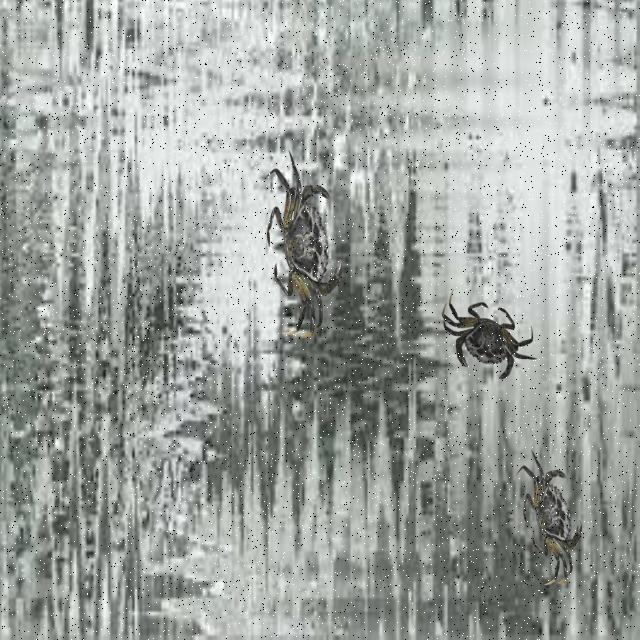European_Green_Crab: (252, 142, 356, 347), (514, 444, 596, 596), (436, 285, 542, 392)
